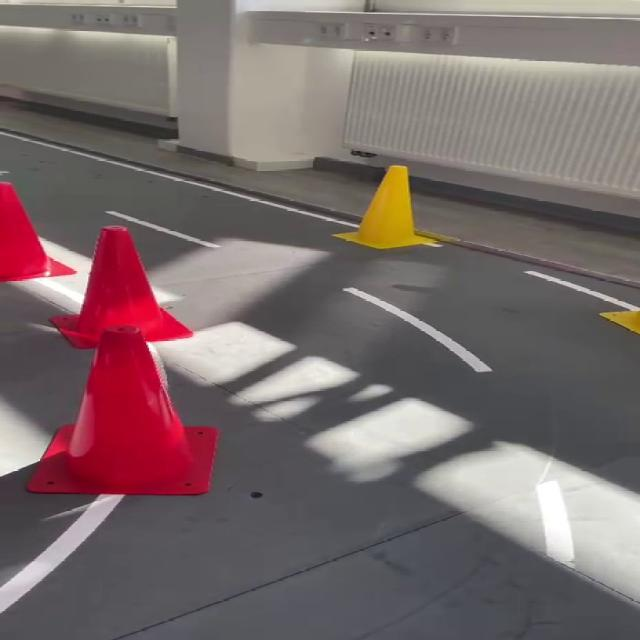Cone-red: (28, 227, 217, 495), (0, 183, 74, 282)
Cones-yellow: (334, 165, 448, 248), (600, 308, 639, 335)
